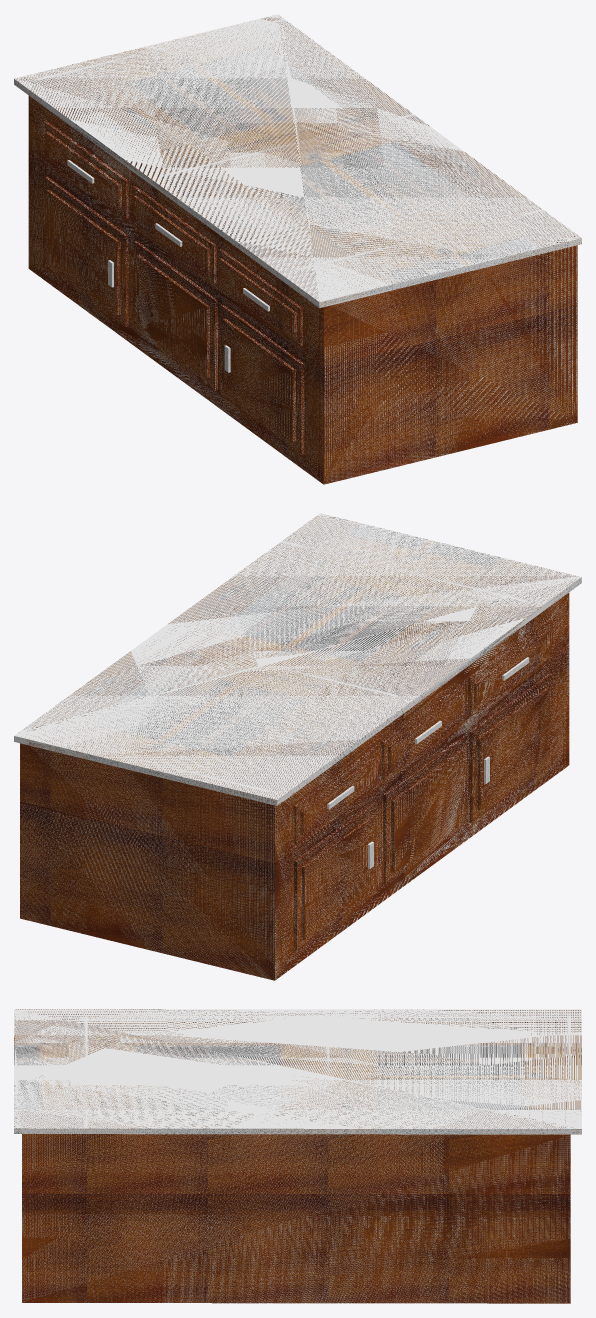
3 views of the same model, one above another, from view 1: azimuth 30°, elevation 25°; view 2: azimuth 150°, elevation 25°; view 3: azimuth 270°, elevation 25° (orthographic). The views are drawn at different scales.
Visible parts, largest first — view 1: mesh1_mesh1-geometry; view 2: mesh1_mesh1-geometry; view 3: mesh1_mesh1-geometry.
Boxes of the visible parts, x1=… form: mesh1_mesh1-geometry: x1=14, y1=14, x2=581, y2=484; mesh1_mesh1-geometry: x1=14, y1=513, x2=581, y2=980; mesh1_mesh1-geometry: x1=14, y1=1009, x2=581, y2=1303.
Size of the model in its own units: 0.4272 by 0.2902 by 0.8563.
